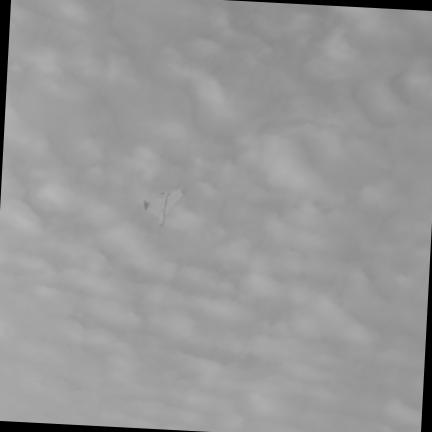Shahed: (144, 185, 188, 226)
